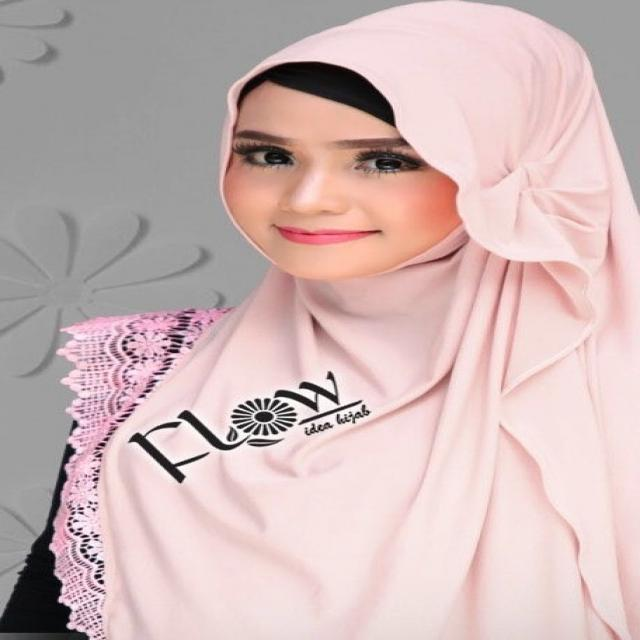head: (189, 1, 590, 290)
